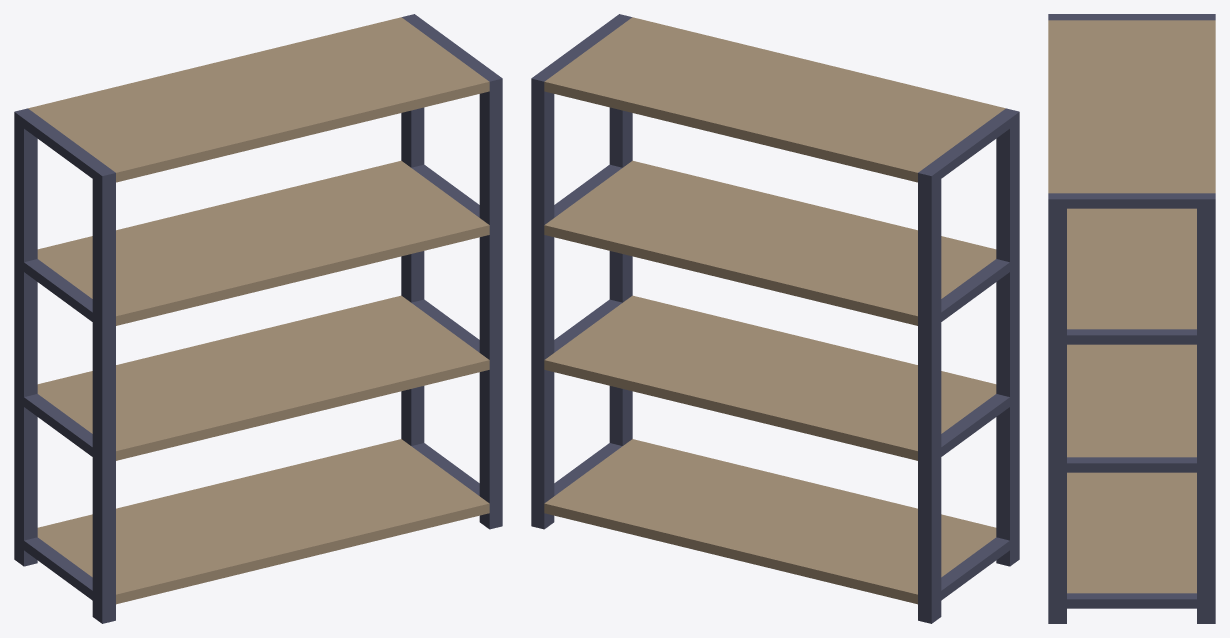
Rendered from Gran Estante Modify 1.fbx.
The picture shows the model from 3 angles, left to right: view 1: azimuth 30°, elevation 25°; view 2: azimuth 150°, elevation 25°; view 3: azimuth 270°, elevation 25°; orthographic projection. The views are drawn at different scales.
Visible parts, largest first — view 1: Gran_Estante_Modify_1; view 2: Gran_Estante_Modify_1; view 3: Gran_Estante_Modify_1.
Part boxes in pixels (x1=…): Gran_Estante_Modify_1: x1=14, y1=14, x2=502, y2=623; Gran_Estante_Modify_1: x1=531, y1=14, x2=1019, y2=623; Gran_Estante_Modify_1: x1=1048, y1=14, x2=1215, y2=623.
Bounding box in the file's own units: 4.04 × 4.32 × 1.54.
